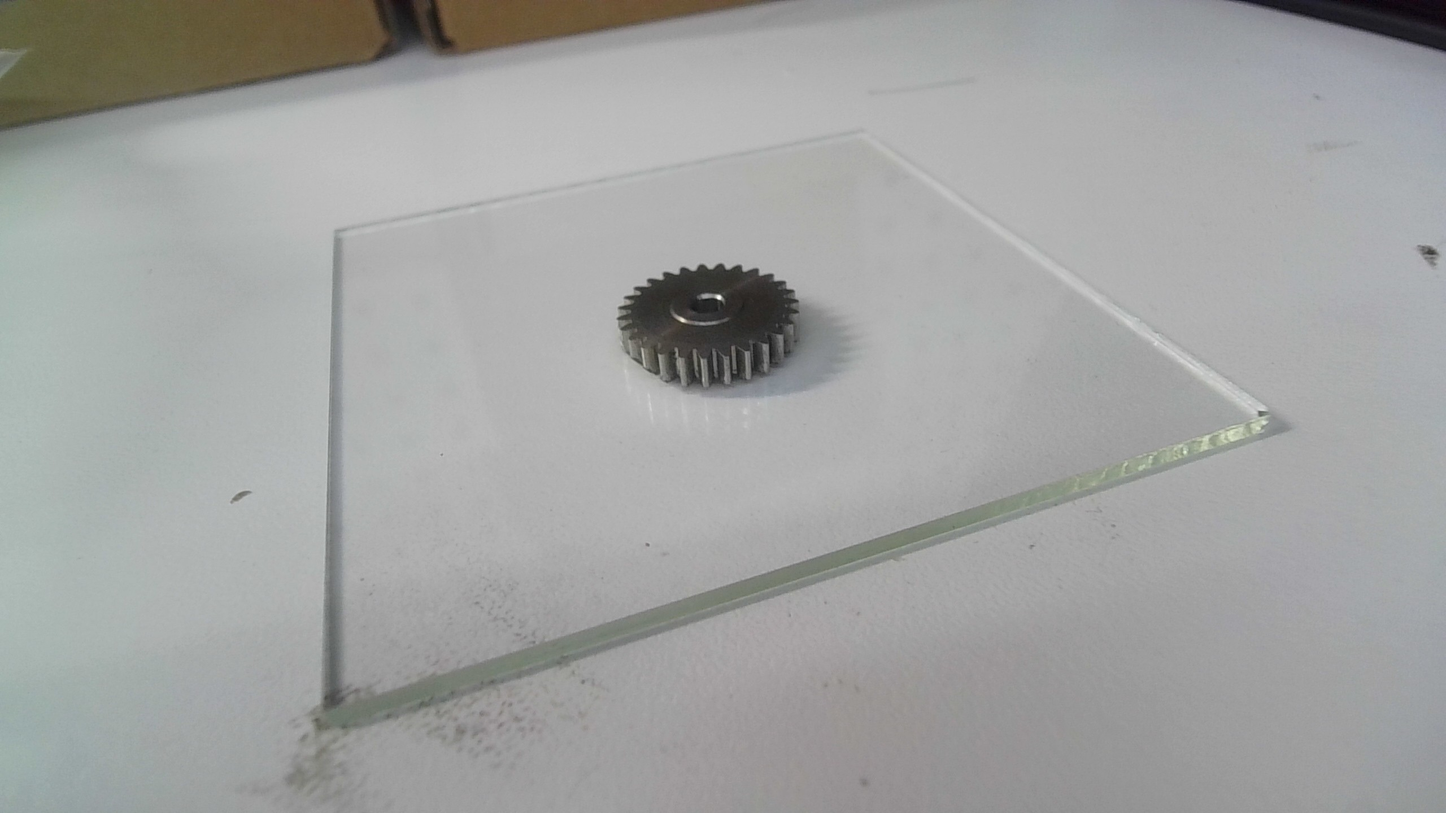gear: (611, 256, 804, 392)
